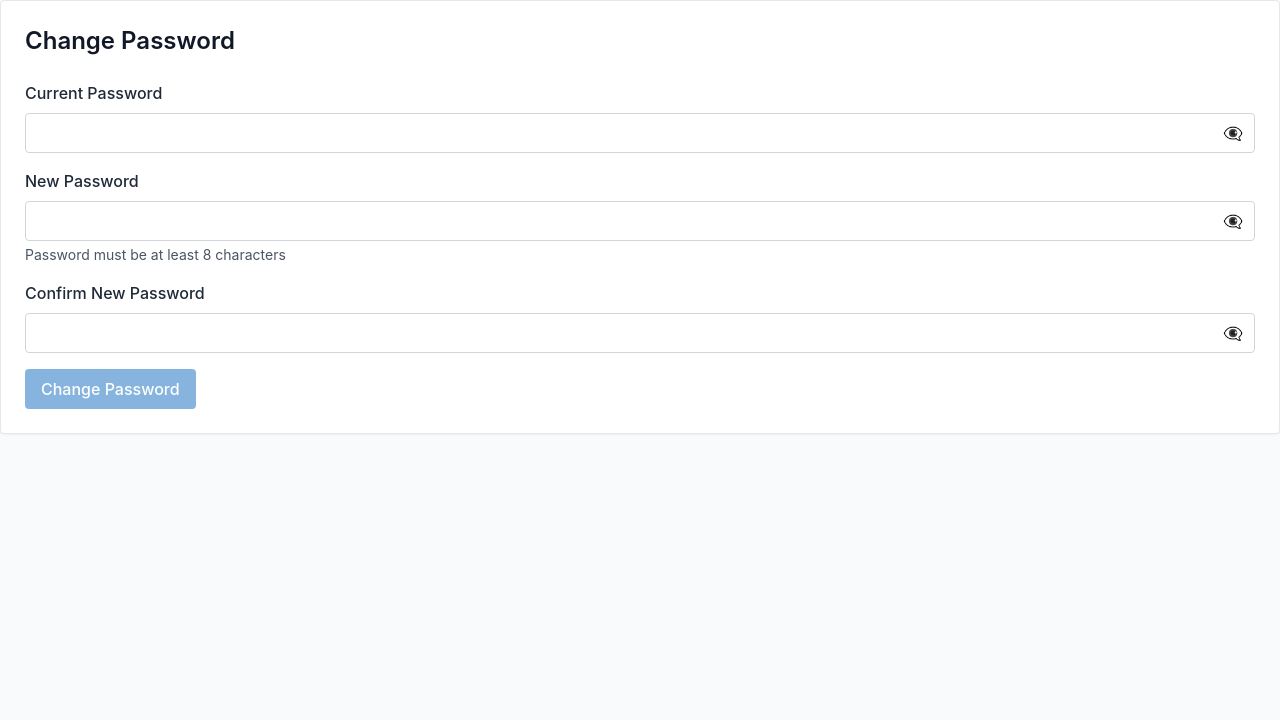
Test: ChangePasswordForm › Password Validation › should show error when passwords do not match
Type "OldPass123!" into the password field labelled "Current Password". click: {"x": 640, "y": 133}
box: [25,113,1255,153]
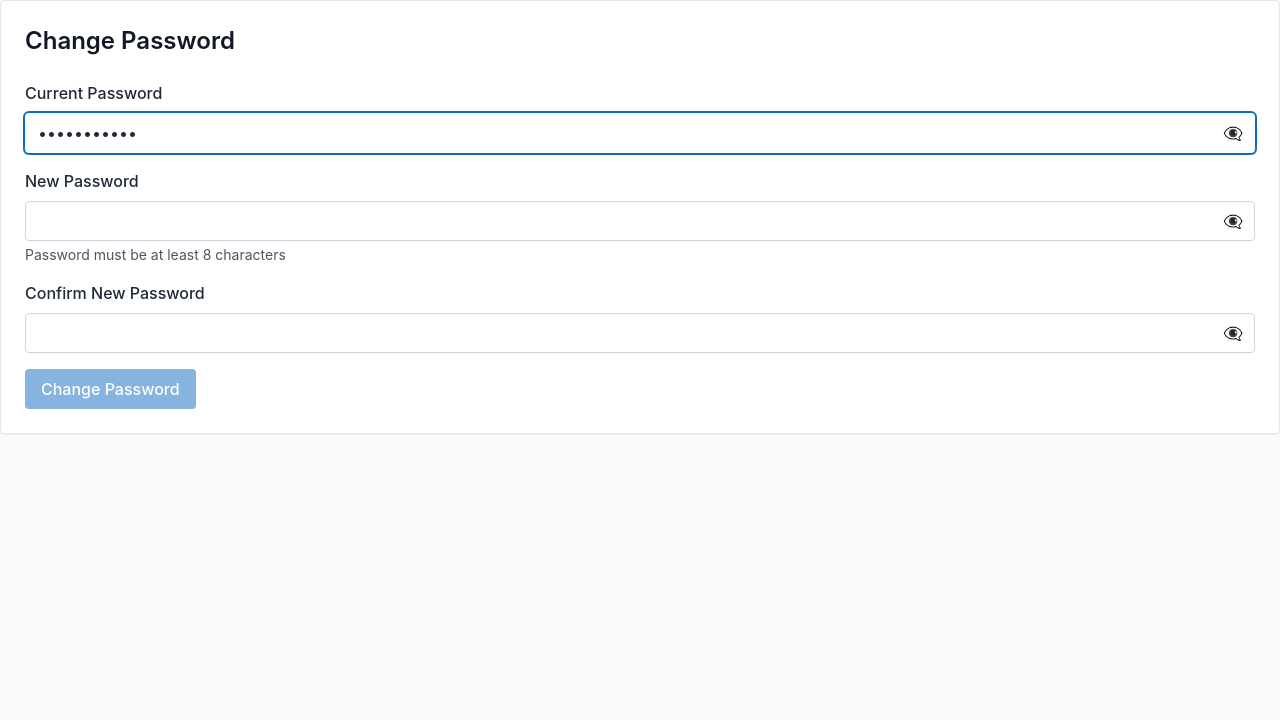
Type "NewPass123!" into the password field labelled "New Password". click: {"x": 640, "y": 221}
box: [25,201,1255,241]
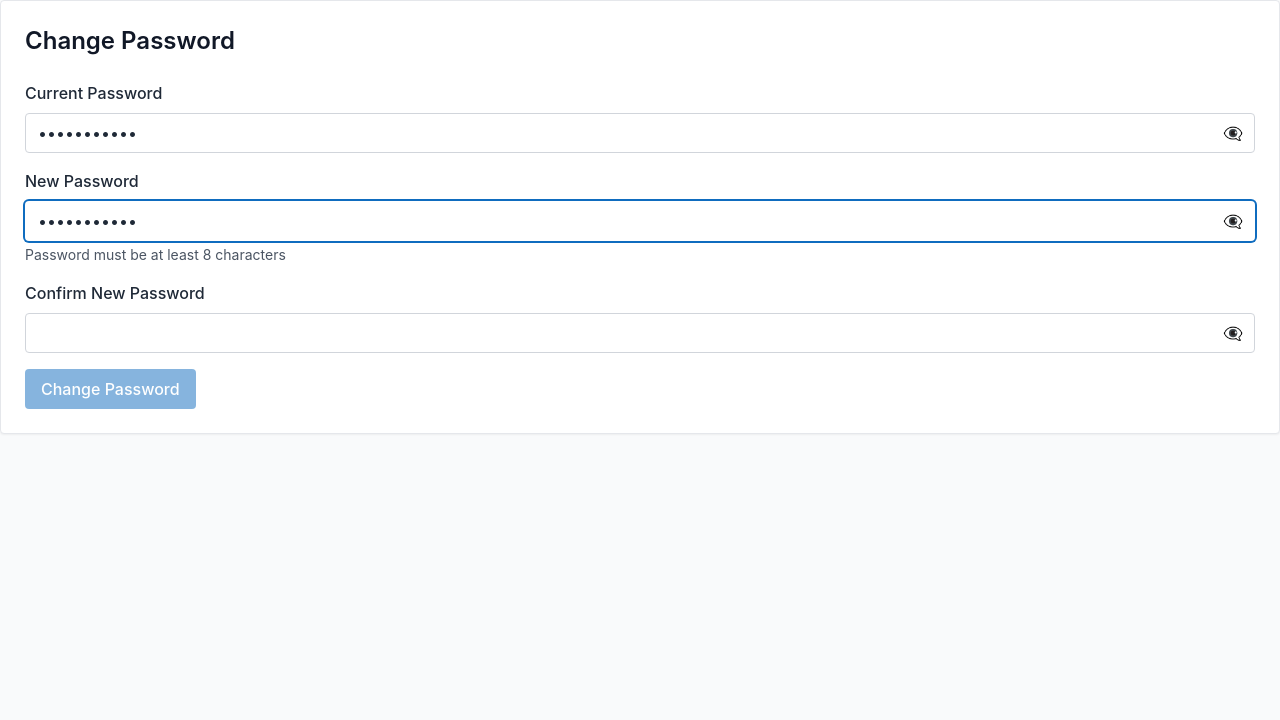
Type "DifferentPass123!" into the password field labelled "Confirm New Password". click: {"x": 640, "y": 333}
box: [25,313,1255,353]
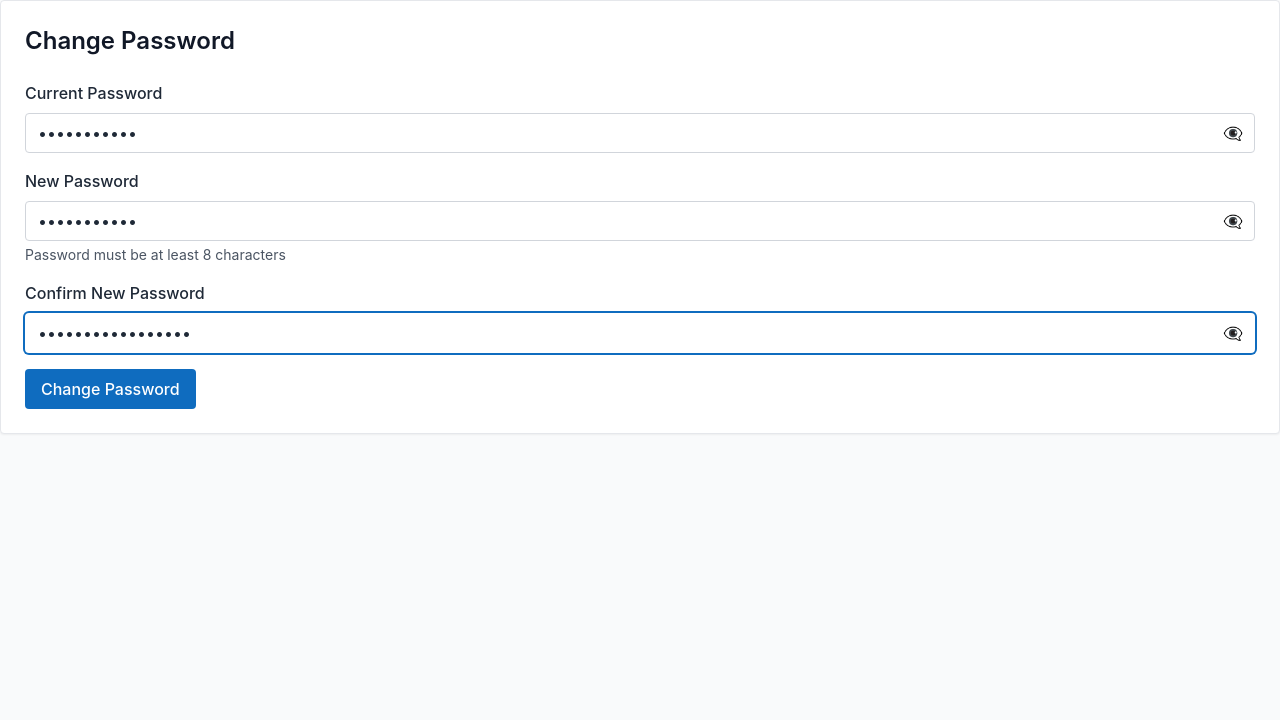
Click the button "Change Password". click: {"x": 110, "y": 389}
box: [25,369,196,409]
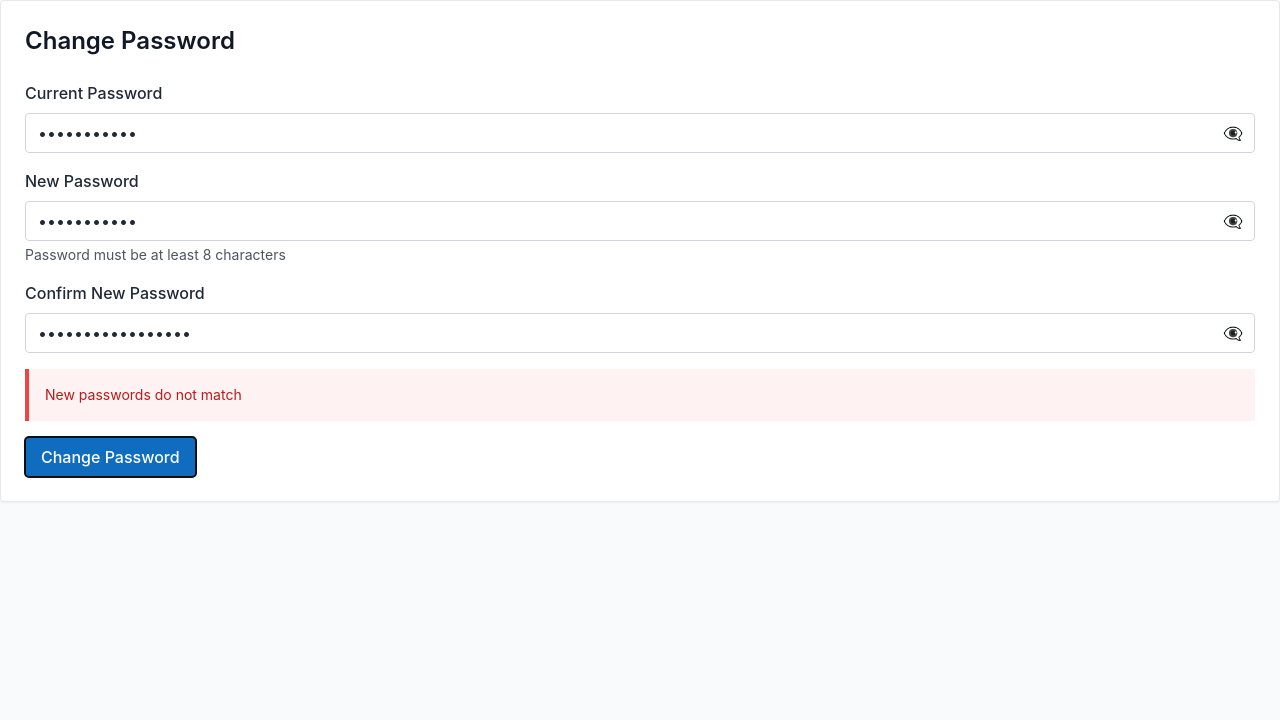
Now the text "New passwords do not match" is shown, box [45,386,242,403]
